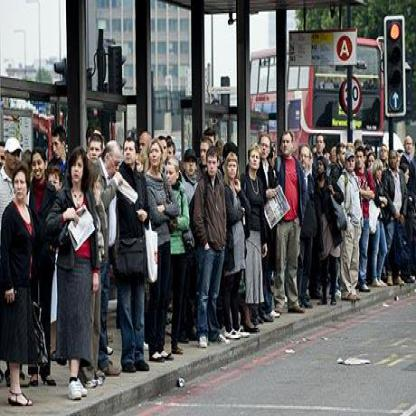Not_Wearing_Mask: (108, 150, 121, 179), (123, 140, 136, 166), (72, 154, 82, 184), (14, 176, 24, 204), (314, 156, 326, 179), (52, 137, 64, 159), (207, 154, 218, 178), (6, 146, 18, 167), (32, 158, 43, 180), (184, 156, 196, 176), (149, 146, 160, 167), (166, 163, 176, 185), (282, 134, 292, 154), (199, 140, 207, 165), (262, 136, 270, 160), (250, 148, 260, 167), (300, 147, 308, 170), (90, 140, 98, 162), (228, 159, 237, 178), (388, 153, 397, 171), (346, 153, 354, 171), (405, 140, 413, 156), (316, 137, 324, 152), (357, 153, 364, 169), (381, 146, 387, 160)
